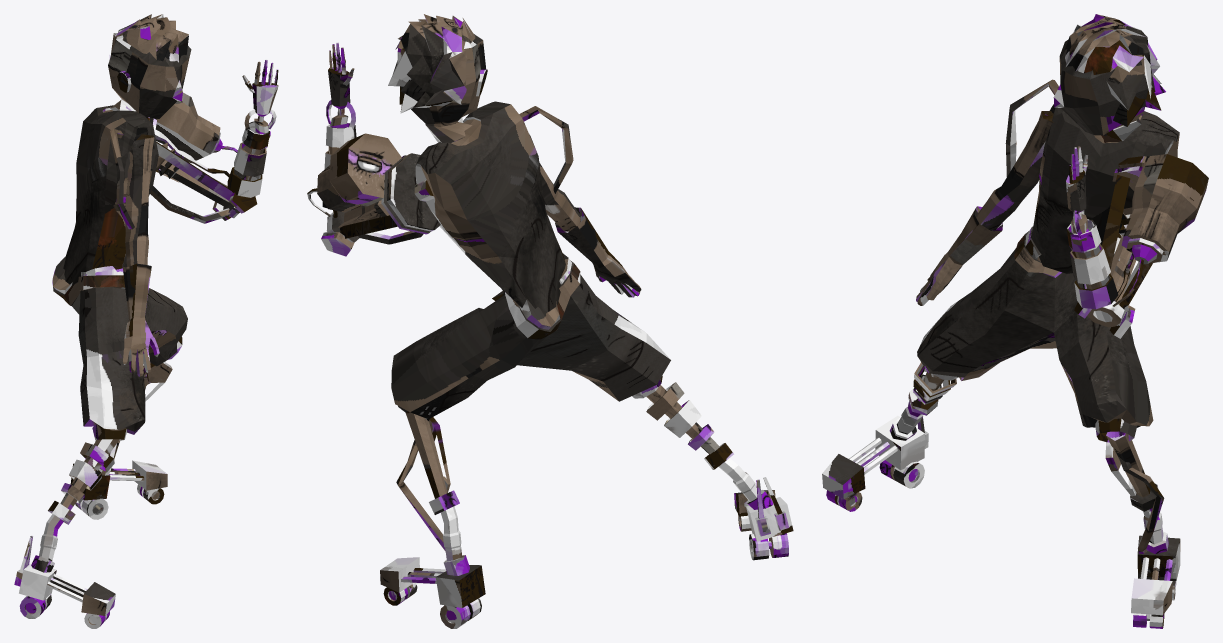
The model's file is CyborgFINALAnimation_000008.obj.
The picture shows the model from 3 angles, left to right: view 1: azimuth 30°, elevation 25°; view 2: azimuth 150°, elevation 25°; view 3: azimuth 270°, elevation 25°; orthographic projection. The views are drawn at different scales.
Visible parts, largest first — view 1: CyborgMesh_Cube.002; view 2: CyborgMesh_Cube.002; view 3: CyborgMesh_Cube.002.
Part boxes in pixels (box(x1,y1,x2,y2)): CyborgMesh_Cube.002: box(14, 14, 278, 628); CyborgMesh_Cube.002: box(307, 14, 793, 628); CyborgMesh_Cube.002: box(822, 14, 1208, 628).
Size of the model in its own units: 5.93 by 8.56 by 4.99.
